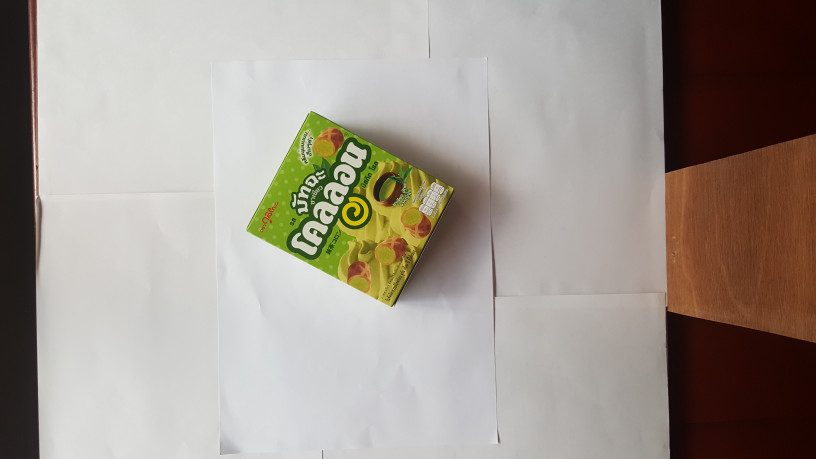collon-matcha: (246, 111, 455, 307)
